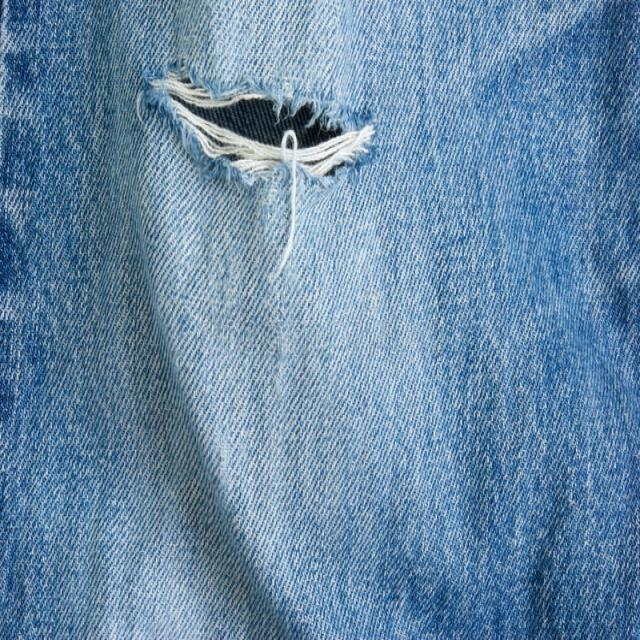Hole: (150, 72, 375, 176)
